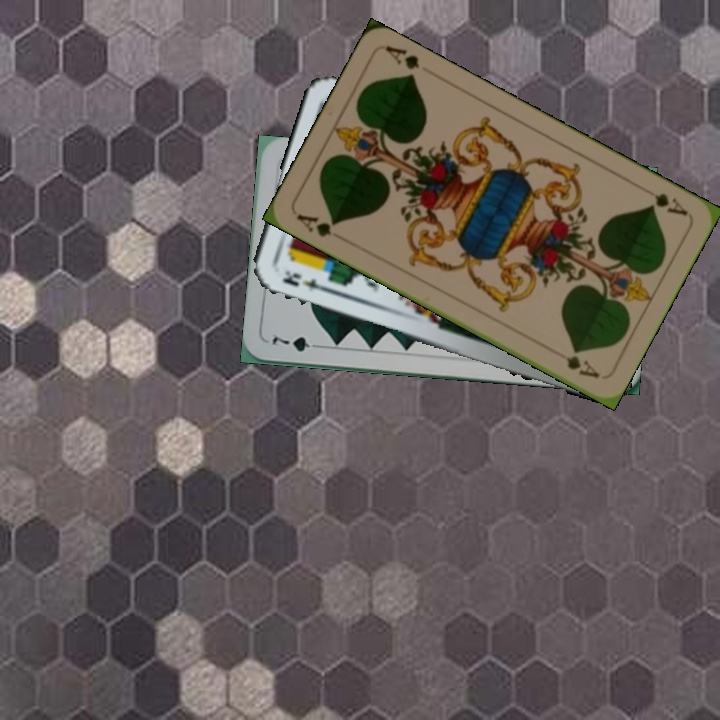EK: (278, 266, 330, 296)
G7: (267, 329, 326, 355)
GA: (293, 210, 339, 240), (646, 188, 691, 218)
